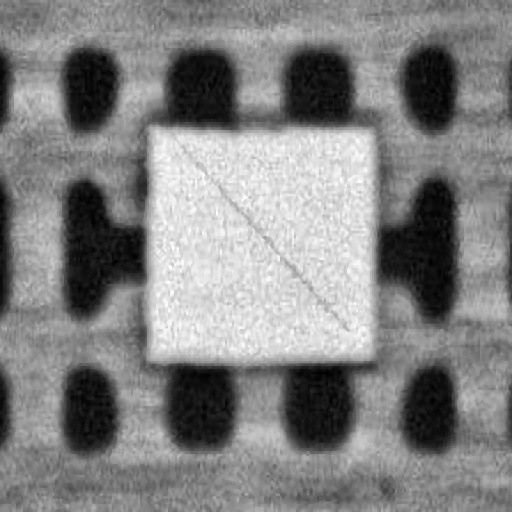DIE_CRACK: (255, 89, 512, 219)
